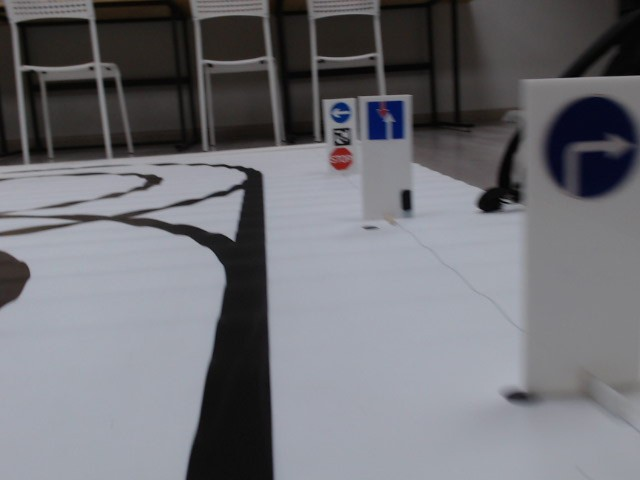Right: (542, 95, 640, 202)
Stop: (329, 147, 353, 169)
priority_movement: (363, 100, 410, 144)
